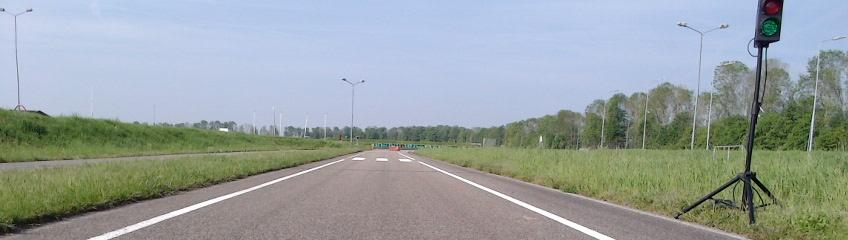TrafficLight-green: (756, 1, 784, 41)
